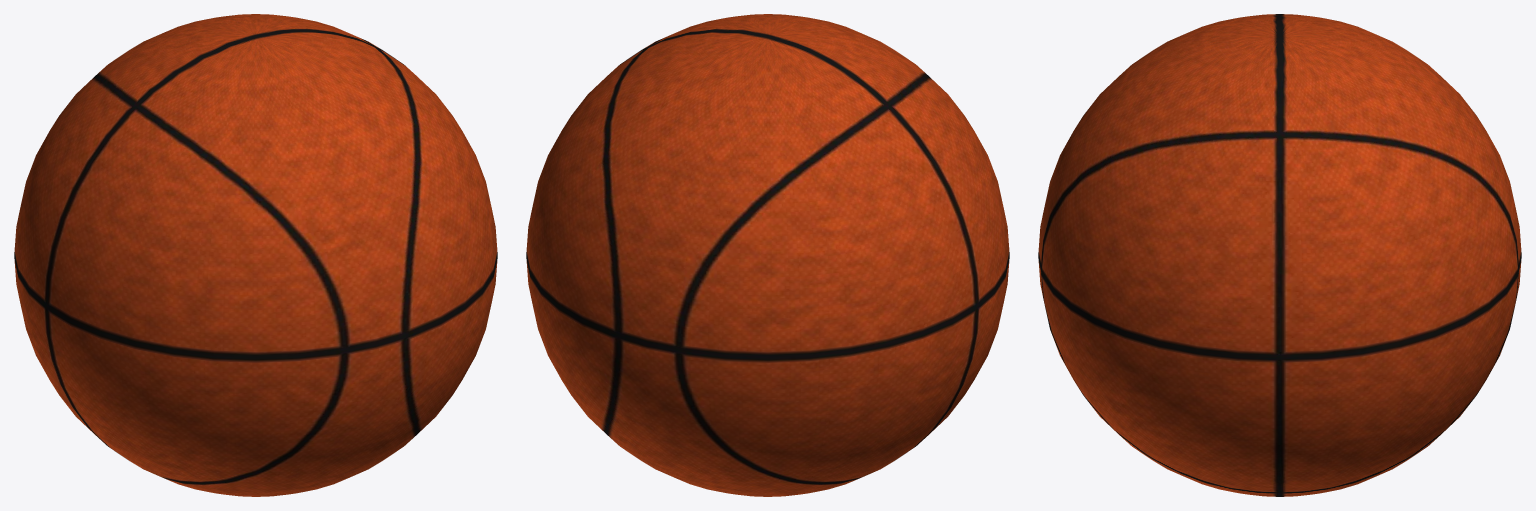
File: basketball_aaa-76834f54cf9e.glb
3 renders of one model, left to right at view 1: azimuth 30°, elevation 25°; view 2: azimuth 150°, elevation 25°; view 3: azimuth 270°, elevation 25°, orthographic.
Visible parts, largest first — view 1: basketball_mesh; view 2: basketball_mesh; view 3: basketball_mesh.
Boxes of the visible parts, x1,y1,x2,y2 form: basketball_mesh: [14, 14, 497, 496]; basketball_mesh: [526, 14, 1009, 496]; basketball_mesh: [1038, 14, 1521, 496].
Size of the model in its own units: 0.242 by 0.242 by 0.242.
Materials: 1 (1 with a texture image).
